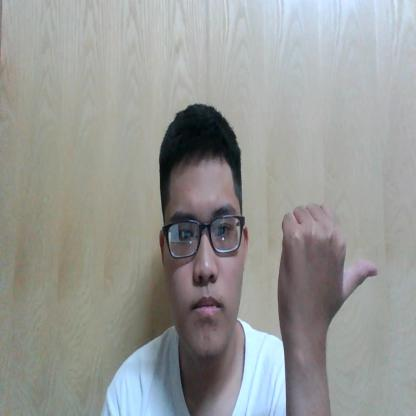left: (274, 200, 379, 331)
